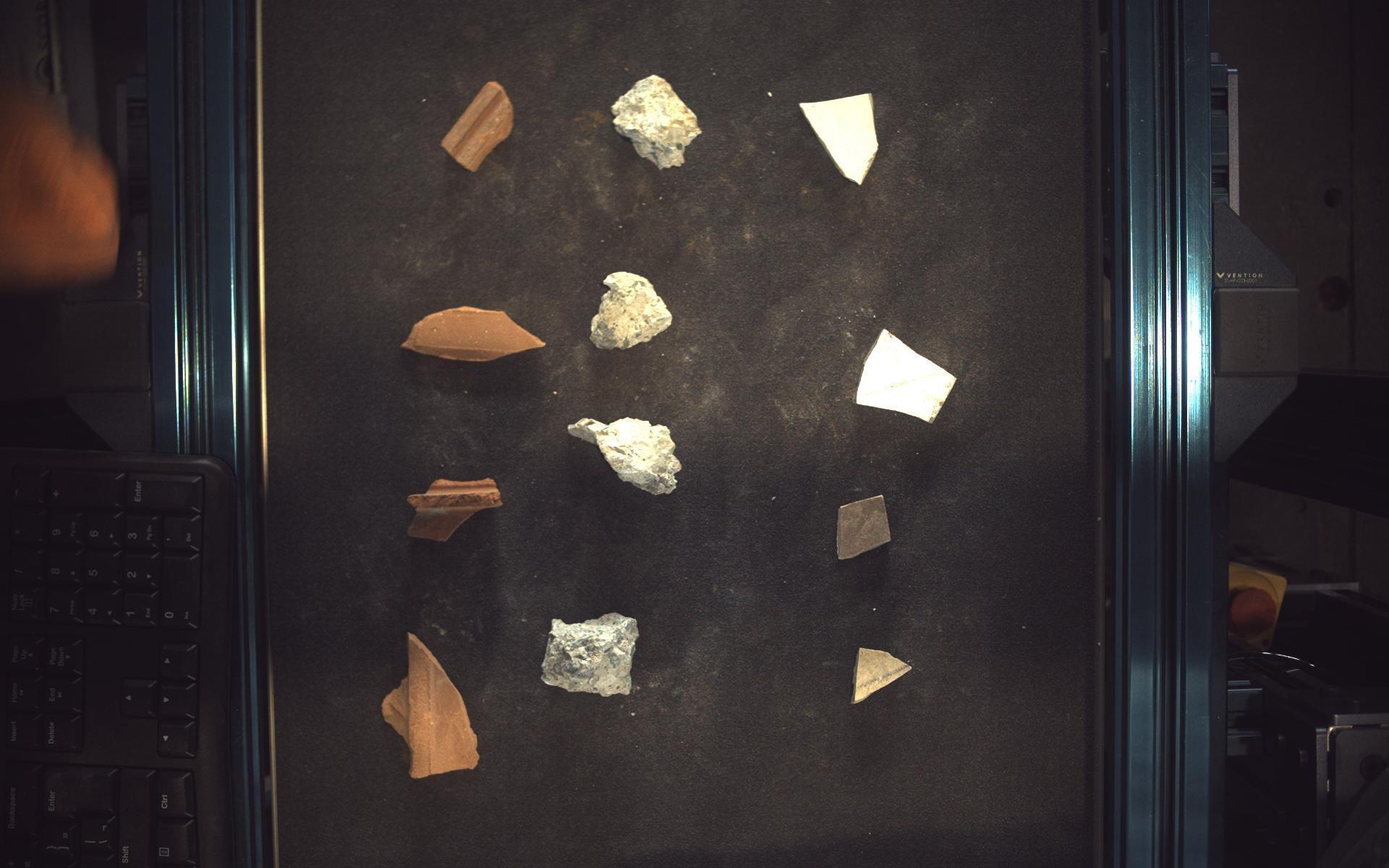brick: (381, 634, 480, 780), (402, 306, 545, 361), (441, 80, 514, 171), (407, 480, 502, 542)
concrete: (569, 417, 682, 495), (613, 74, 702, 168), (543, 613, 640, 698), (591, 271, 673, 349)
tile: (858, 329, 958, 422), (801, 93, 880, 184), (839, 495, 893, 560), (854, 649, 912, 705)
